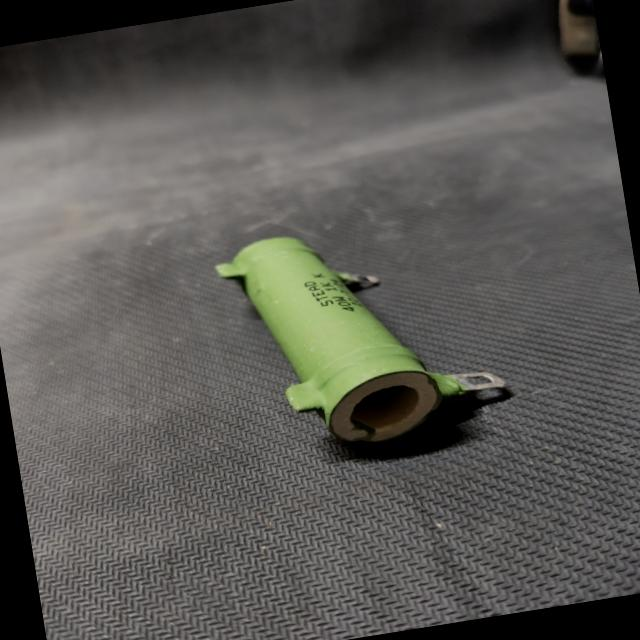resistor: (206, 197, 536, 478)
